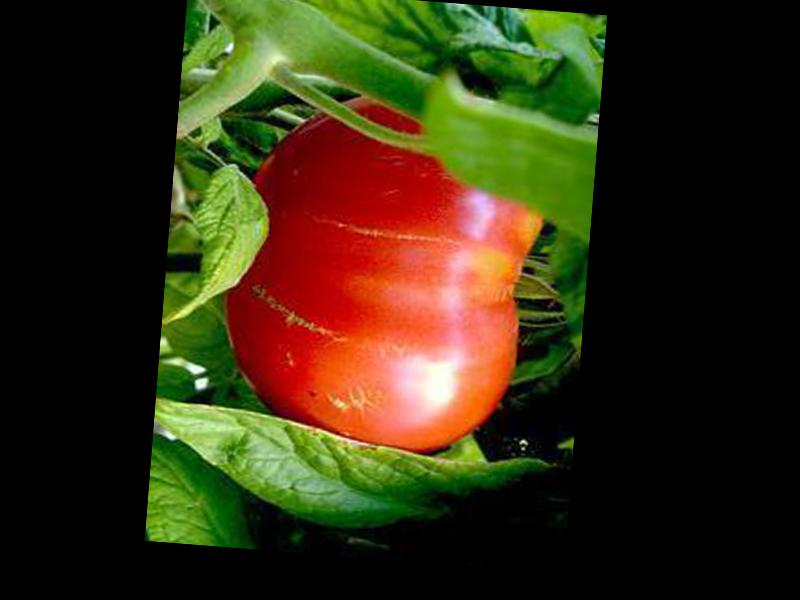Tomato: (216, 88, 553, 464)
